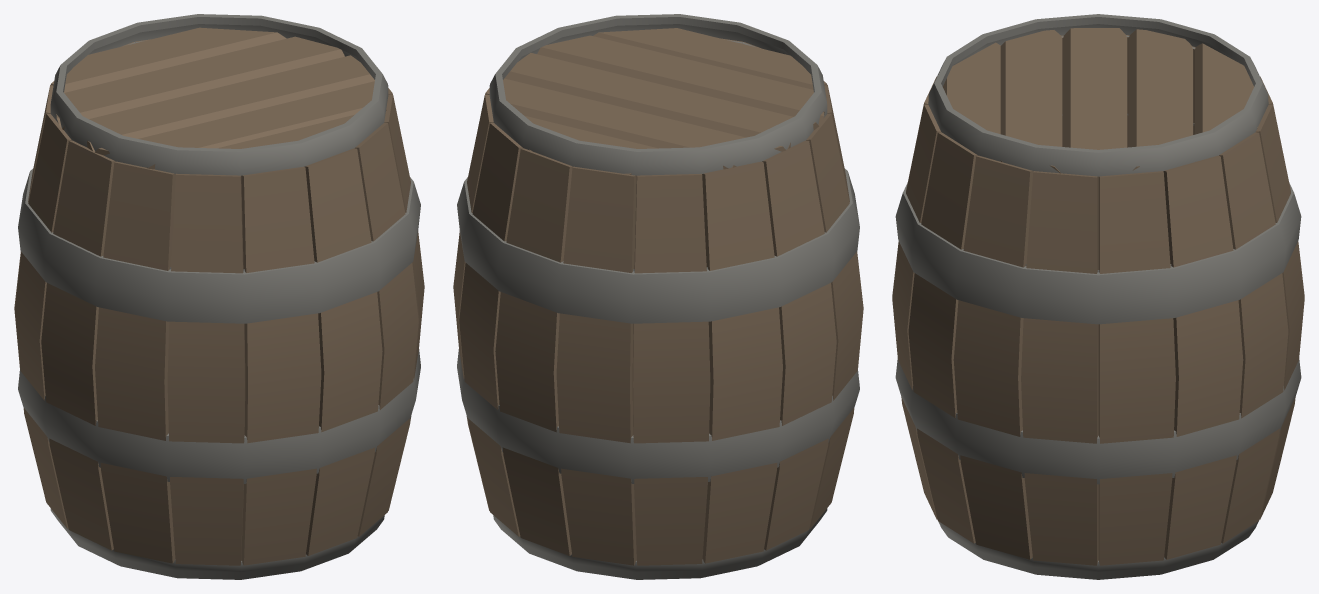
File: barrel_wood.fbx
3 views of the same model, side by side, from view 1: azimuth 30°, elevation 25°; view 2: azimuth 150°, elevation 25°; view 3: azimuth 270°, elevation 25° (orthographic).
Visible parts, largest first — view 1: barrel_wood; view 2: barrel_wood; view 3: barrel_wood.
Boxes of the visible parts, x1=… form: barrel_wood: x1=14, y1=14, x2=424, y2=579; barrel_wood: x1=453, y1=14, x2=863, y2=579; barrel_wood: x1=892, y1=14, x2=1304, y2=579.
Bounding box in the file's own units: 1.18 × 1.35 × 1.18.
